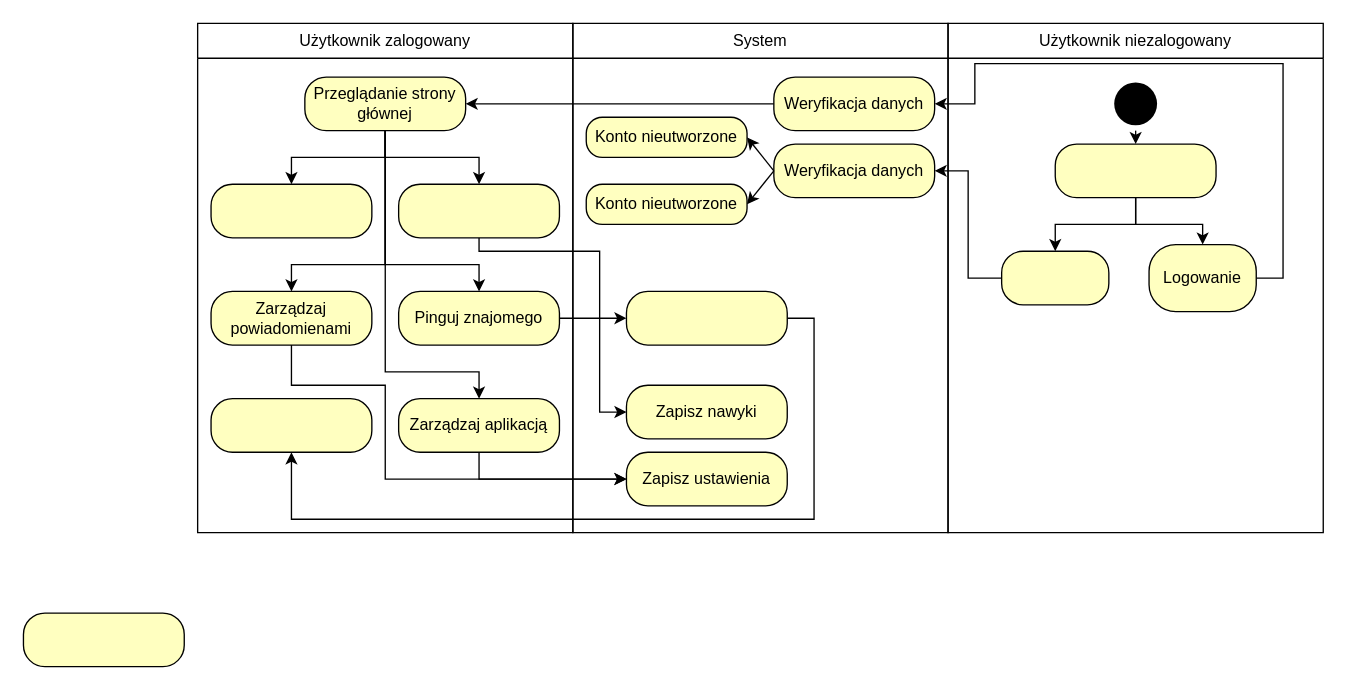
The diagram is 1347 pixels wide and 690 high, and some of its shapes have lost their labels. The centre of each missing label's shape, as x and y in pixels:
"Activity" belongs at (x=103, y=639).
"Otrzymaj powiadomienie" belongs at (x=291, y=424).
"Przeglądanie nawyków" belongs at (x=291, y=210).
"Rejestracja" belongs at (x=1054, y=277).
"Start" belongs at (x=1135, y=170).
"Wyślij powiadomienie" belongs at (x=706, y=317).
"Zarządzanie nawykami" belongs at (x=478, y=210).
